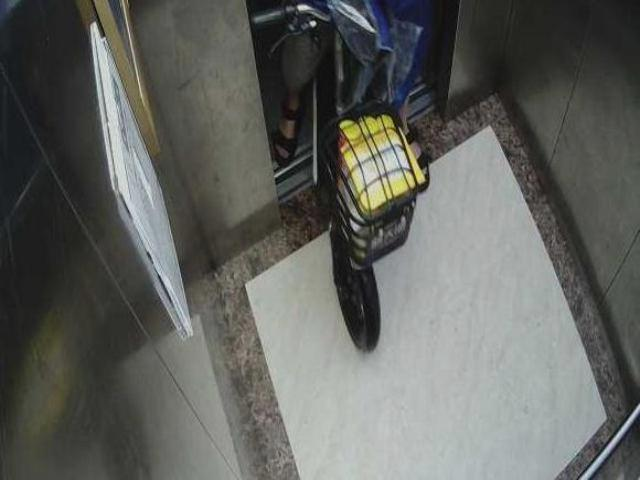emotor: (266, 2, 428, 350)
